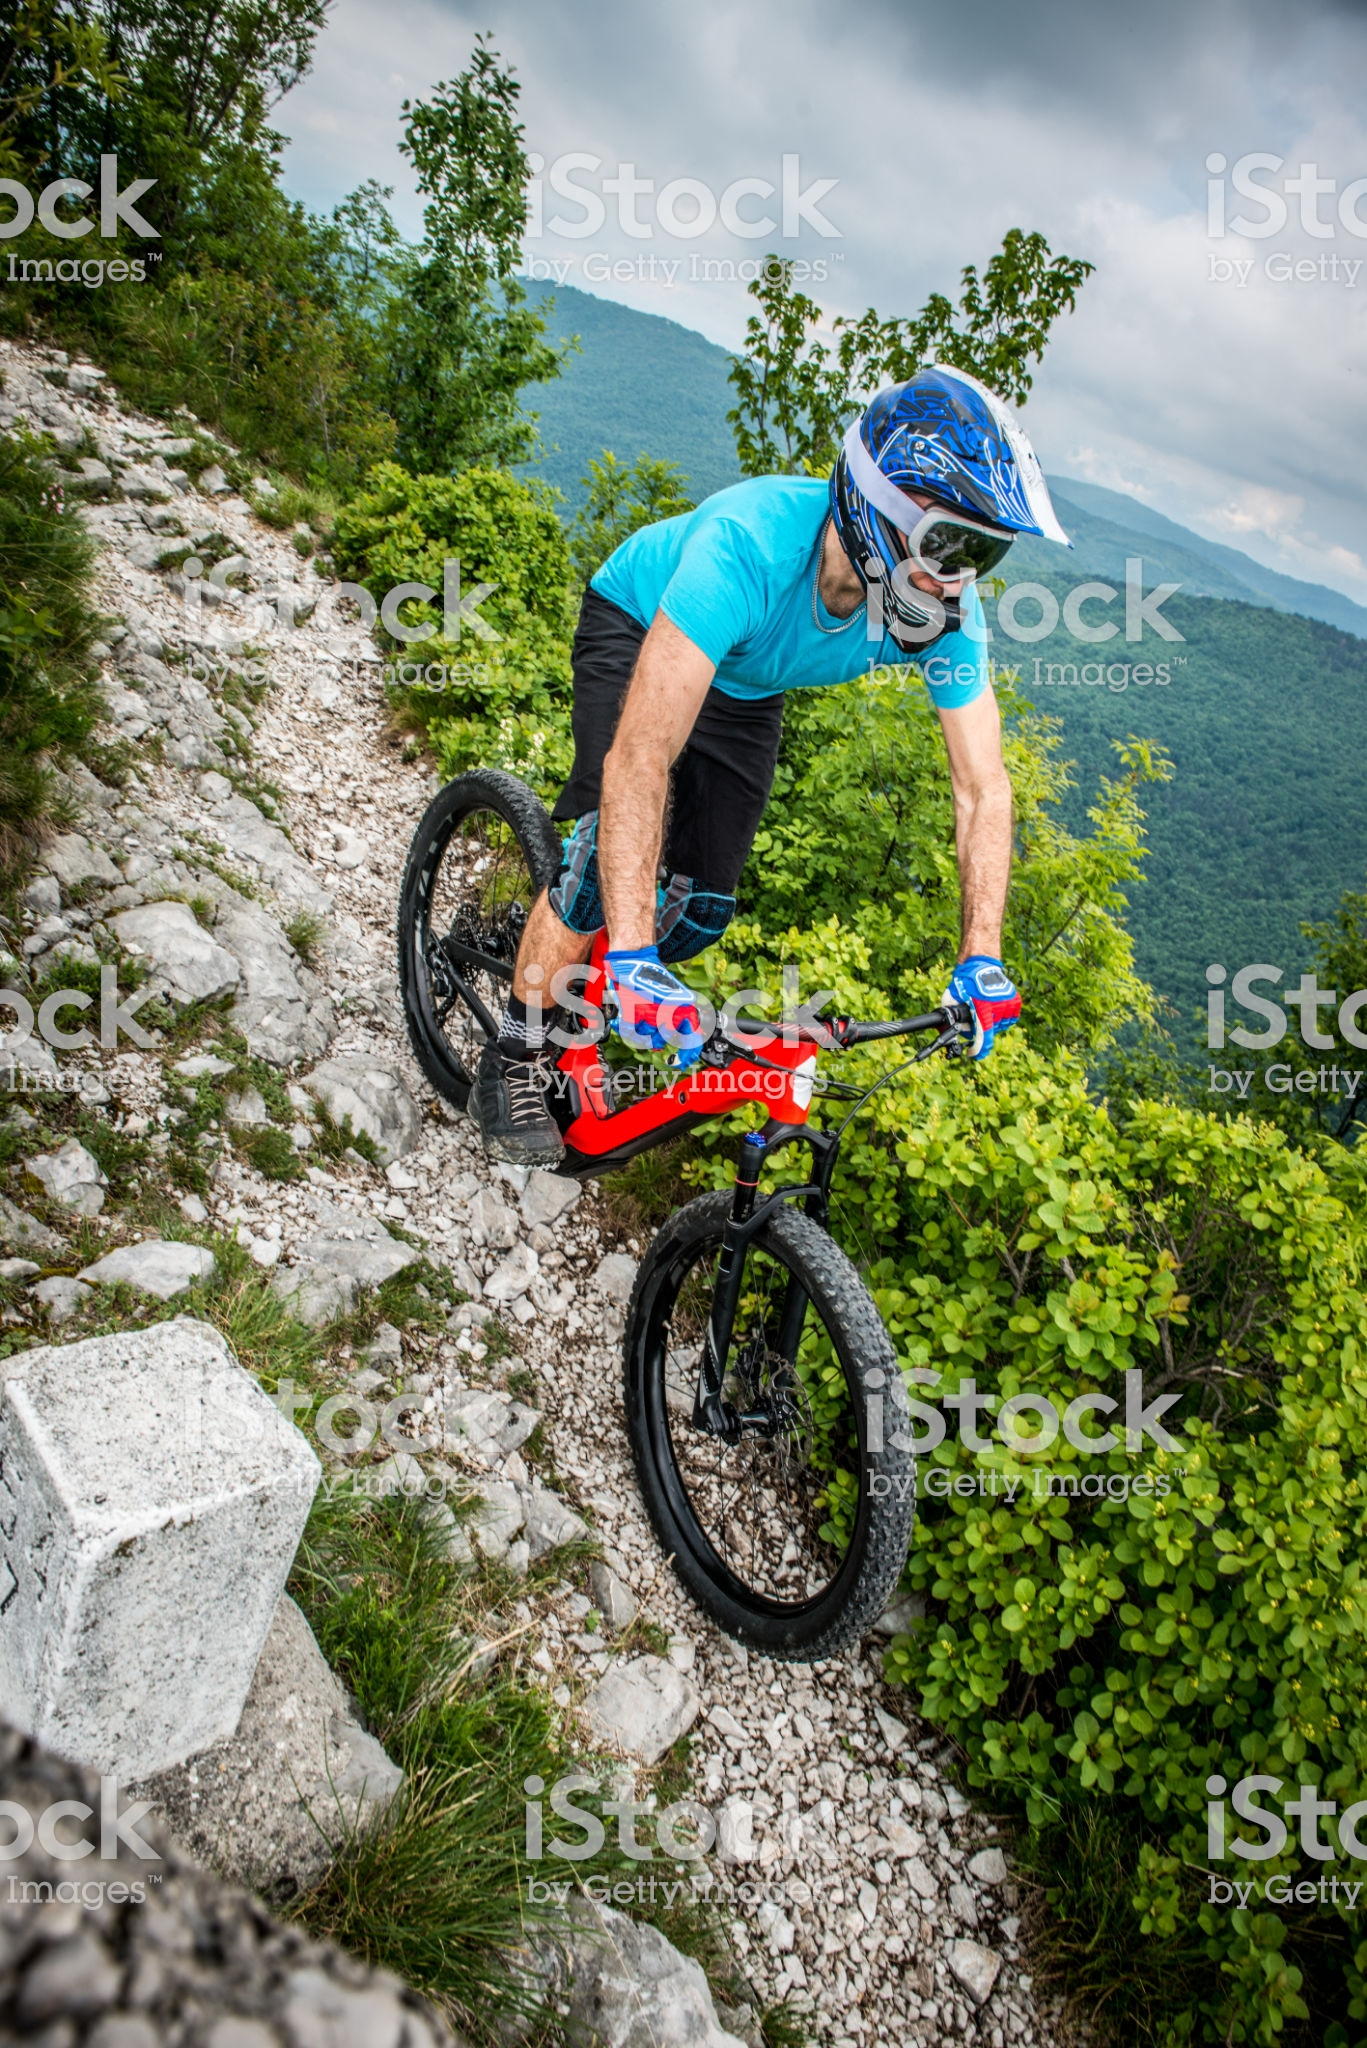helmet: (824, 355, 1083, 625)
